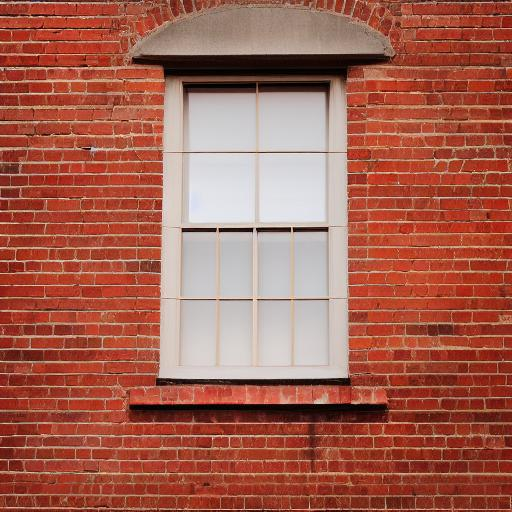Window: (129, 8, 398, 410)
